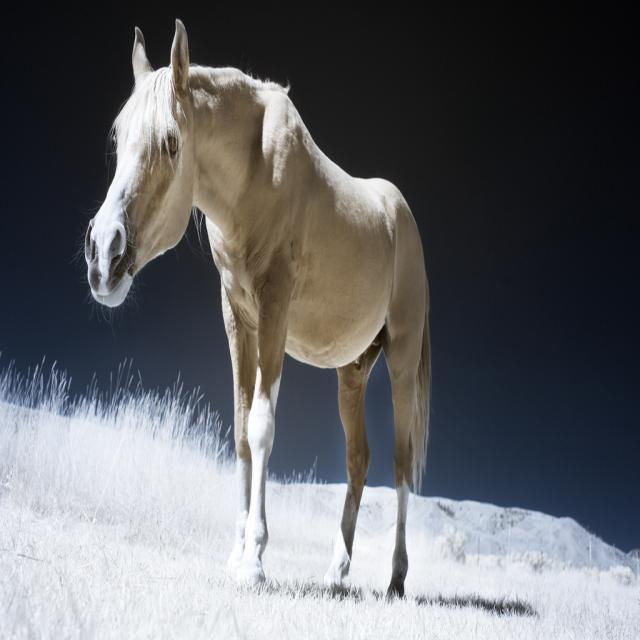Horse: (83, 19, 432, 595)
